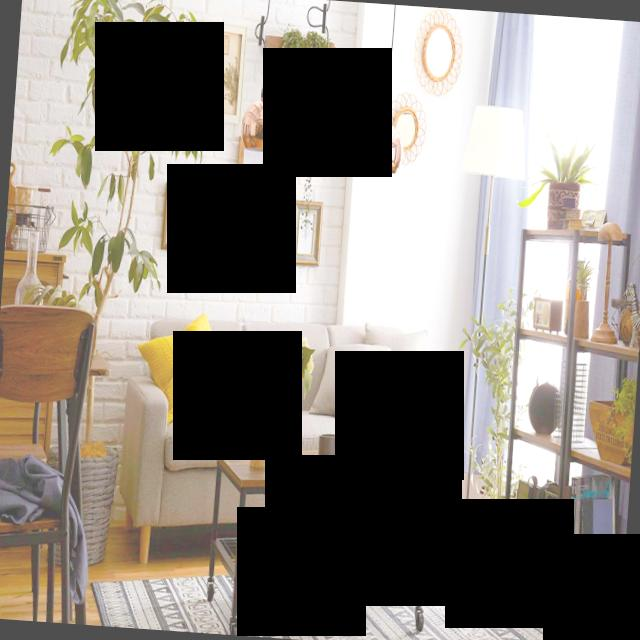vintage chair: (0, 295, 103, 624)
vintage desk: (203, 433, 436, 640)
vintage shelf: (494, 220, 640, 625)
vintage sofa: (117, 301, 468, 582)
